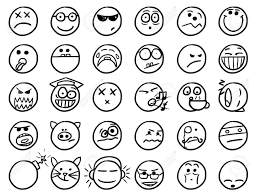feliz: (88, 156, 124, 190), (48, 5, 83, 39), (216, 42, 249, 73), (220, 8, 244, 33), (94, 165, 117, 184), (221, 50, 244, 69), (53, 13, 77, 31)
triste: (173, 43, 209, 74), (213, 159, 248, 190), (89, 43, 125, 73), (171, 6, 207, 36), (216, 121, 252, 151), (5, 121, 41, 151), (5, 7, 41, 37), (88, 4, 124, 34), (130, 43, 166, 73), (48, 42, 84, 72), (90, 119, 125, 149), (131, 121, 166, 151), (7, 83, 42, 113)
